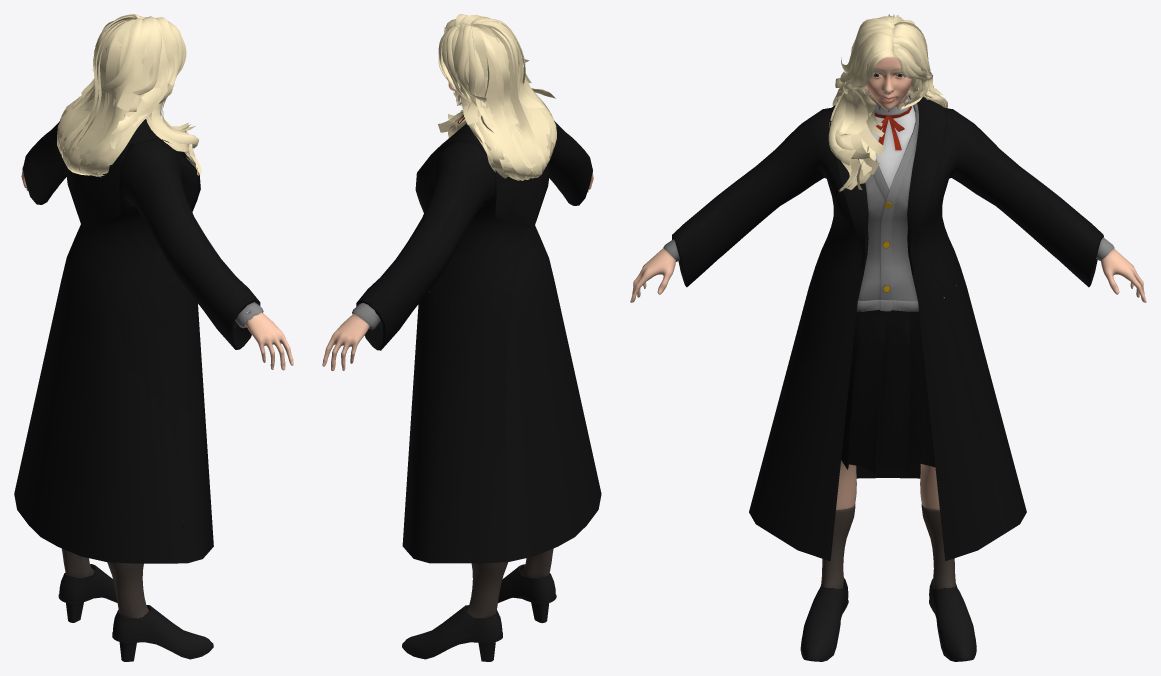
File: Female_Human.fbx
3 views of the same model, side by side, from view 1: azimuth 30°, elevation 25°; view 2: azimuth 150°, elevation 25°; view 3: azimuth 270°, elevation 25° (orthographic). The views are drawn at different scales.
Parts seen in each view (by area): view 1: Outfit, Hair, Shoes, Stocking, Female_Human; view 2: Outfit, Hair, Shoes, Stocking, Female_Human; view 3: Outfit, Hair, Female_Human, Shoes, Stocking.
Boxes of the visible parts, x1=… form: Outfit: x1=14, y1=118, x2=263, y2=563; Hair: x1=57, y1=14, x2=201, y2=177; Shoes: x1=58, y1=564, x2=213, y2=661; Stocking: x1=61, y1=548, x2=149, y2=618; Female_Human: x1=21, y1=166, x2=293, y2=370; Outfit: x1=352, y1=115, x2=601, y2=563; Hair: x1=438, y1=14, x2=556, y2=180; Shoes: x1=402, y1=564, x2=556, y2=661; Stocking: x1=466, y1=548, x2=553, y2=618; Female_Human: x1=322, y1=77, x2=593, y2=370; Outfit: x1=663, y1=92, x2=1114, y2=561; Hair: x1=828, y1=14, x2=947, y2=191; Female_Human: x1=630, y1=35, x2=1146, y2=509; Shoes: x1=800, y1=578, x2=976, y2=661; Stocking: x1=821, y1=504, x2=955, y2=588.
Bounding box in the file's own units: 38.45 × 158 × 118.
